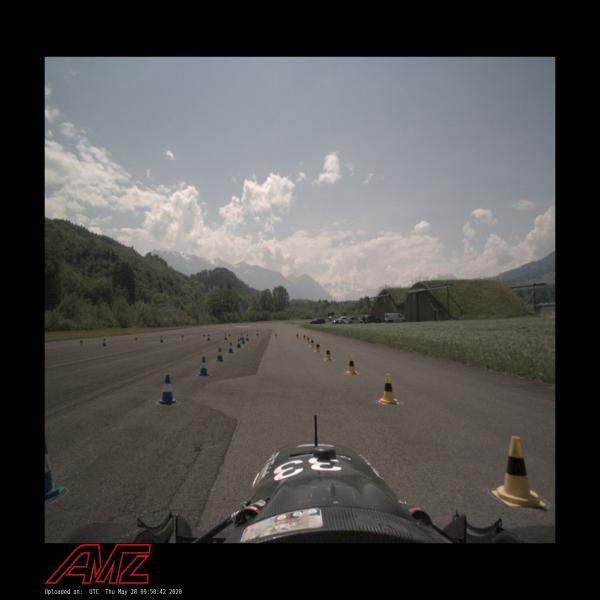blue_cone: (45, 438, 65, 503), (157, 374, 177, 406), (198, 357, 209, 376), (216, 347, 224, 362), (227, 342, 234, 354), (236, 338, 241, 348), (102, 338, 107, 347), (241, 336, 246, 344), (245, 334, 250, 341), (160, 335, 164, 343), (207, 334, 211, 341), (224, 334, 228, 340), (240, 334, 243, 340)
yellow_cone: (491, 435, 546, 508), (378, 373, 398, 405), (345, 354, 357, 375), (323, 347, 333, 361), (314, 341, 320, 352), (310, 338, 314, 347), (306, 336, 310, 343), (80, 339, 84, 346), (134, 336, 138, 343), (180, 334, 184, 340), (274, 333, 278, 338), (303, 334, 306, 340), (296, 333, 299, 339), (203, 333, 206, 339), (256, 333, 259, 338), (228, 333, 231, 338)
